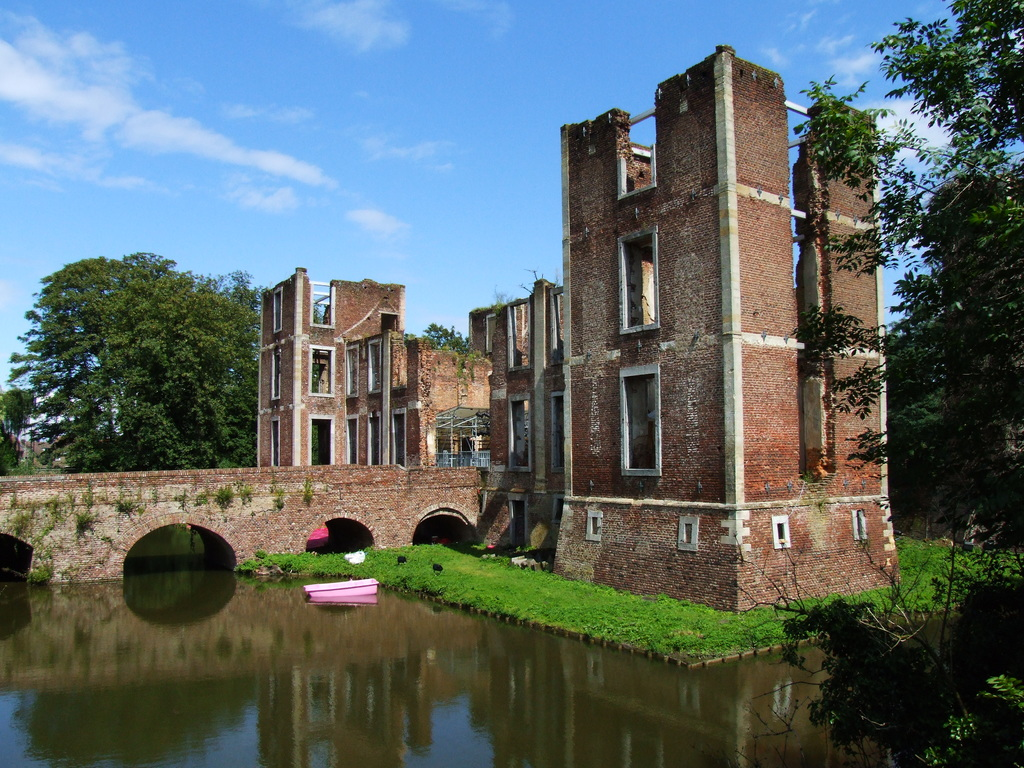Tree: (764, 0, 1024, 767), (0, 256, 257, 467), (423, 320, 472, 346), (400, 330, 415, 340)
